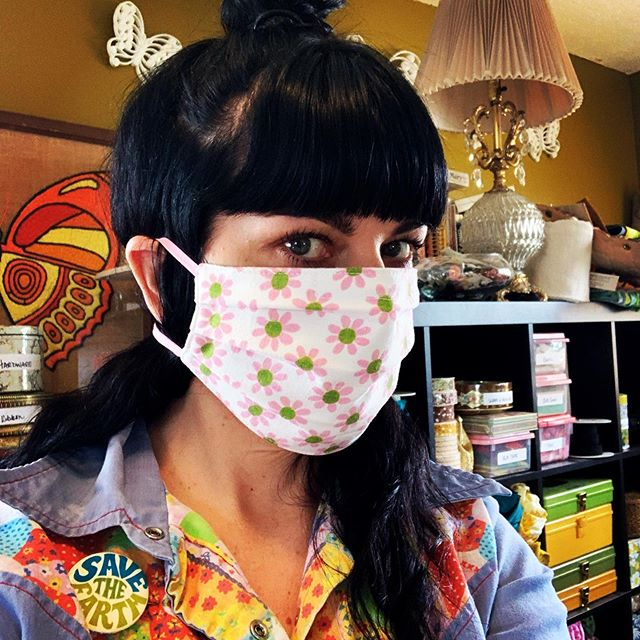homemade: (159, 264, 429, 455)
